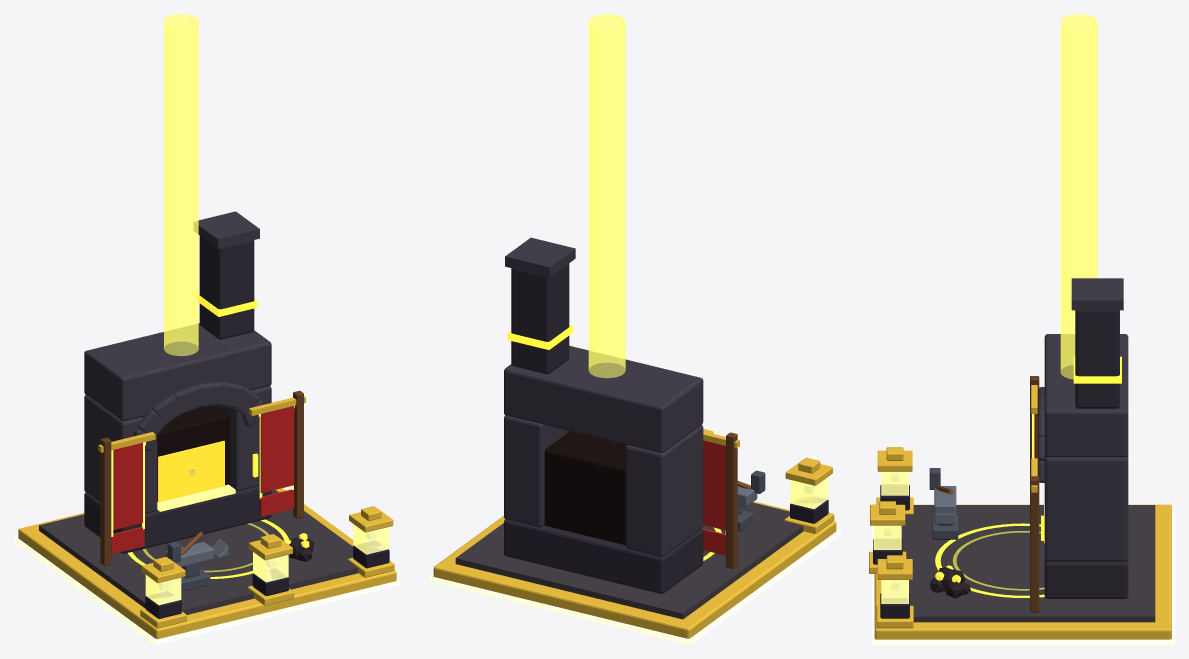
Rendered from ForgePilot.fbx.
The picture shows the model from 3 angles, left to right: view 1: azimuth 30°, elevation 25°; view 2: azimuth 150°, elevation 25°; view 3: azimuth 270°, elevation 25°; orthographic projection. The views are drawn at different scales.
Visible parts, largest first — view 1: M_66_62_74_Slate_0, FX_beam_255_190_60_Neon_45_3, M_70_64_70_Cobblestone_0, M_255_204_60_SmoothPlastic_0, M_52_48_60_Slate_0, M_200_40_40_SmoothPlastic_0, FX_fire_255_120_30_Neon_0_0, M_30_20_20_SmoothPlastic_0, M_110_70_40_SmoothPlastic_0, M_255_200_90_Neon_15, M_255_232_130_Neon_0, FX_smoke_66_62_74_SmoothPlastic_0_2 (+7 smaller); view 2: M_66_62_74_Slate_0, FX_beam_255_190_60_Neon_45_3, M_52_48_60_Slate_0, M_70_64_70_Cobblestone_0, M_255_204_60_SmoothPlastic_0, M_30_20_20_SmoothPlastic_0, M_255_232_130_Neon_0, M_200_40_40_SmoothPlastic_0, FX_smoke_66_62_74_SmoothPlastic_0_2, M_110_70_40_SmoothPlastic_0, M_255_200_90_Neon_15, M_78_82_96_Metal_0 (+1 smaller); view 3: M_70_64_70_Cobblestone_0, M_66_62_74_Slate_0, FX_beam_255_190_60_Neon_45_3, M_255_204_60_SmoothPlastic_0, M_52_48_60_Slate_0, M_255_232_130_Neon_0, M_255_200_90_Neon_15, M_110_70_40_SmoothPlastic_0, FX_smoke_66_62_74_SmoothPlastic_0_2, M_44_40_54_SmoothPlastic_0, M_110_116_132_Metal_0, M_44_38_42_Slate_0 (+4 smaller).
Part boxes in pixels (<box>): M_66_62_74_Slate_0: <box>84,323,271,513</box>; FX_beam_255_190_60_Neon_45_3: <box>164,14,198,356</box>; M_70_64_70_Cobblestone_0: <box>39,490,357,614</box>; M_255_204_60_SmoothPlastic_0: <box>18,488,396,639</box>; M_52_48_60_Slate_0: <box>84,236,271,553</box>; M_200_40_40_SmoothPlastic_0: <box>111,406,294,554</box>; FX_fire_255_120_30_Neon_0_0: <box>158,441,224,502</box>; M_30_20_20_SmoothPlastic_0: <box>157,406,229,501</box>; M_110_70_40_SmoothPlastic_0: <box>100,390,303,565</box>; M_255_200_90_Neon_15: <box>145,524,388,605</box>; M_255_232_130_Neon_0: <box>14,536,400,644</box>; FX_smoke_66_62_74_SmoothPlastic_0_2: <box>194,211,259,248</box>; M_66_62_74_Slate_0: <box>504,345,703,556</box>; FX_beam_255_190_60_Neon_45_3: <box>588,14,625,378</box>; M_52_48_60_Slate_0: <box>504,263,703,593</box>; M_70_64_70_Cobblestone_0: <box>455,502,803,619</box>; M_255_204_60_SmoothPlastic_0: <box>433,429,836,638</box>; M_30_20_20_SmoothPlastic_0: <box>544,431,626,545</box>; M_255_232_130_Neon_0: <box>429,529,840,644</box>; M_200_40_40_SmoothPlastic_0: <box>702,440,725,555</box>; FX_smoke_66_62_74_SmoothPlastic_0_2: <box>505,237,575,277</box>; M_110_70_40_SmoothPlastic_0: <box>726,432,737,568</box>; M_255_200_90_Neon_15: <box>790,477,828,509</box>; M_78_82_96_Metal_0: <box>737,470,765,531</box>; M_70_64_70_Cobblestone_0: <box>901,505,1155,622</box>; M_66_62_74_Slate_0: <box>1038,334,1128,561</box>; FX_beam_255_190_60_Neon_45_3: <box>1060,14,1097,379</box>; M_255_204_60_SmoothPlastic_0: <box>869,447,1171,639</box>; M_52_48_60_Slate_0: <box>1044,310,1128,598</box>; M_255_232_130_Neon_0: <box>872,512,1174,644</box>; M_255_200_90_Neon_15: <box>873,471,908,603</box>; M_110_70_40_SmoothPlastic_0: <box>1030,376,1039,612</box>; FX_smoke_66_62_74_SmoothPlastic_0_2: <box>1071,278,1123,310</box>; M_44_40_54_SmoothPlastic_0: <box>873,485,909,618</box>; M_110_116_132_Metal_0: <box>934,486,956,524</box>; M_44_38_42_Slate_0: <box>930,567,970,598</box>.
Bounding box in the file's own units: 16.3 × 33.25 × 16.45.
